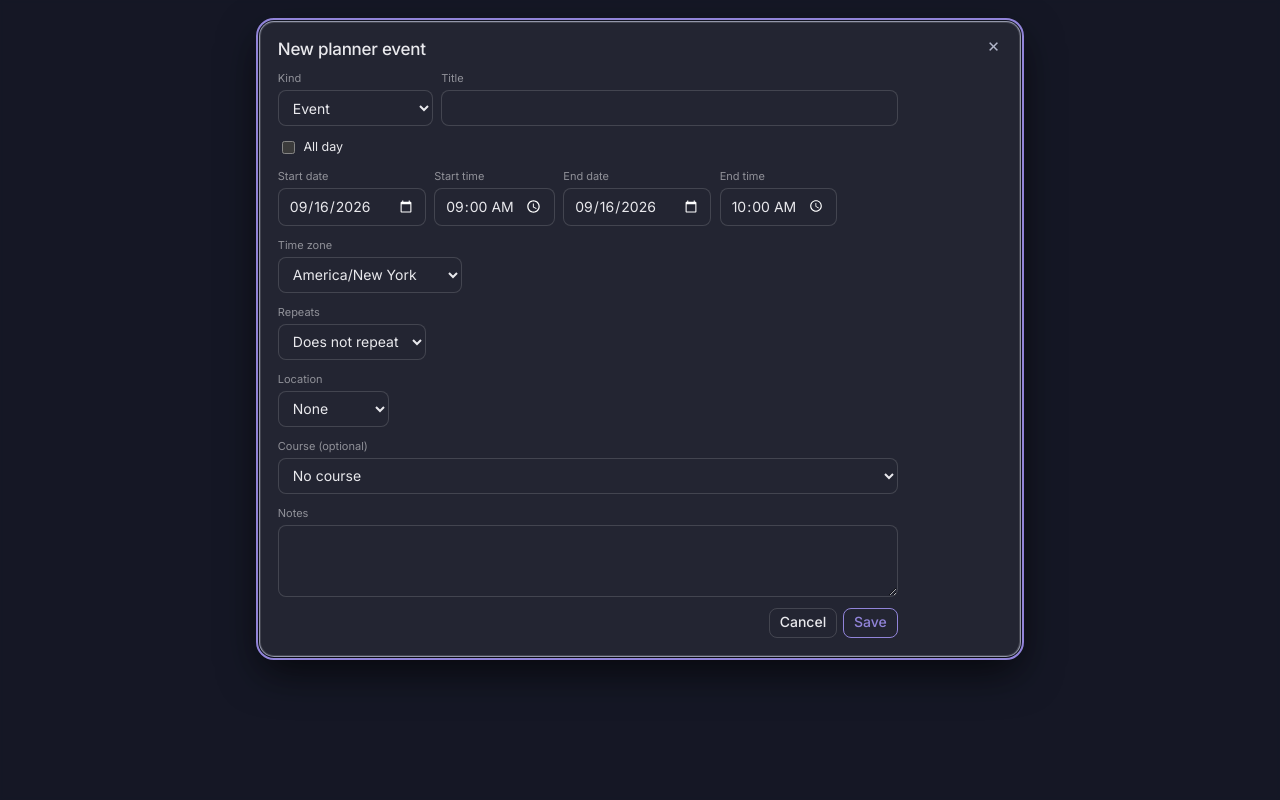
a new event › counts the occurrences live
The width and height of the screenshot is (1280, 800).
Type "Studio" into the field labelled "Title".
click(670, 108); type("Studio")  # box [441,90,898,126]
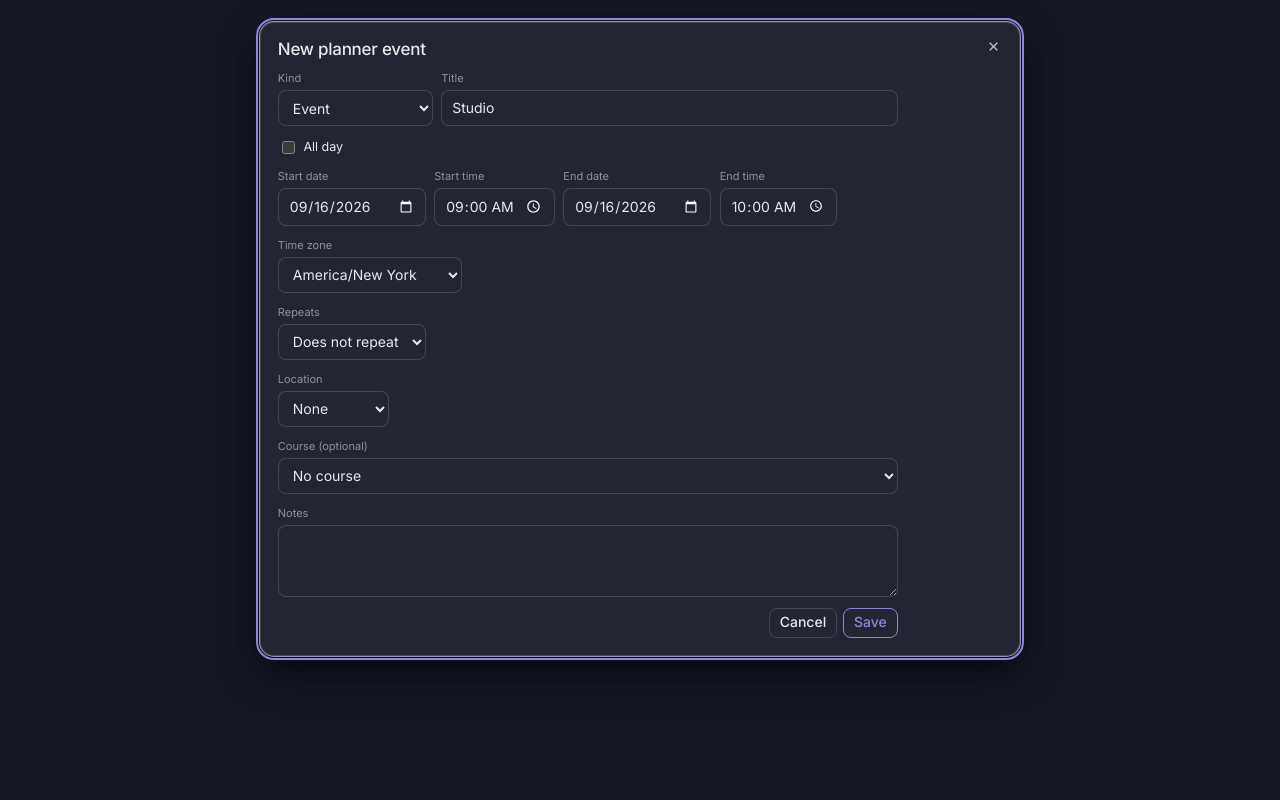
Select "Weekly" in the dropdown labelled "Repeats" at (352, 342), box [278,324,426,360]
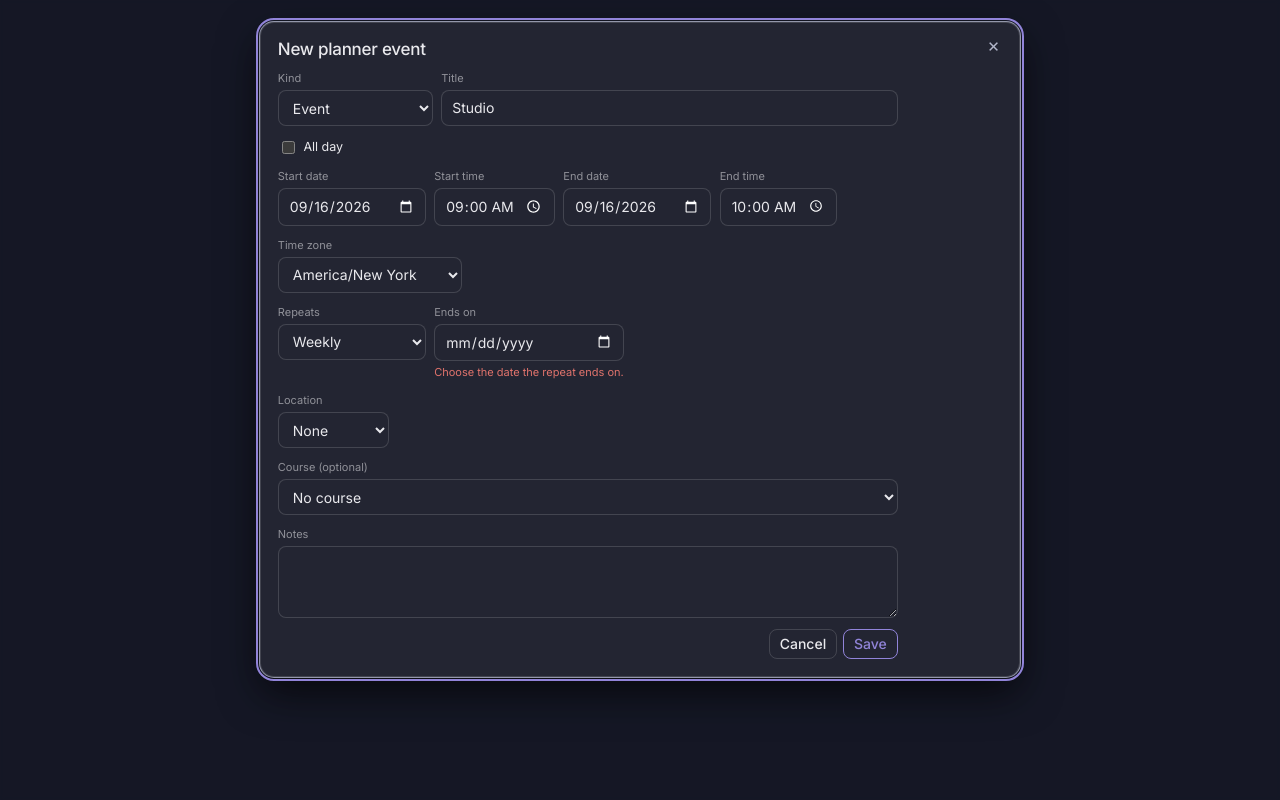
Type "2026-10-07" into the date field labelled "Ends on".
click(529, 342); type("2026-10-07")  # box [434,324,624,361]
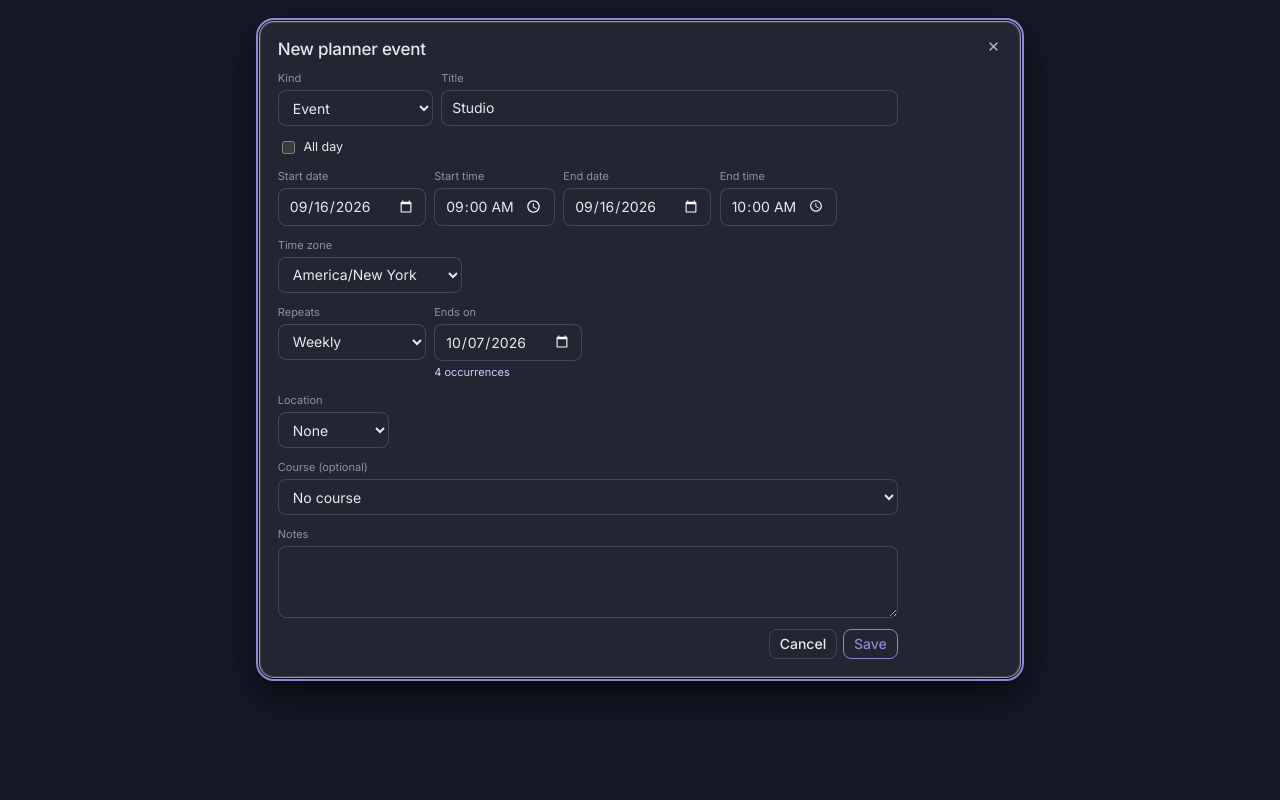
expect the text "4 occurrences" is shown: met, box [434,365,510,379]
Type "2026-09-16" into the date field labelled "Ends on".
click(508, 342); type("2026-09-16")  # box [434,324,582,361]
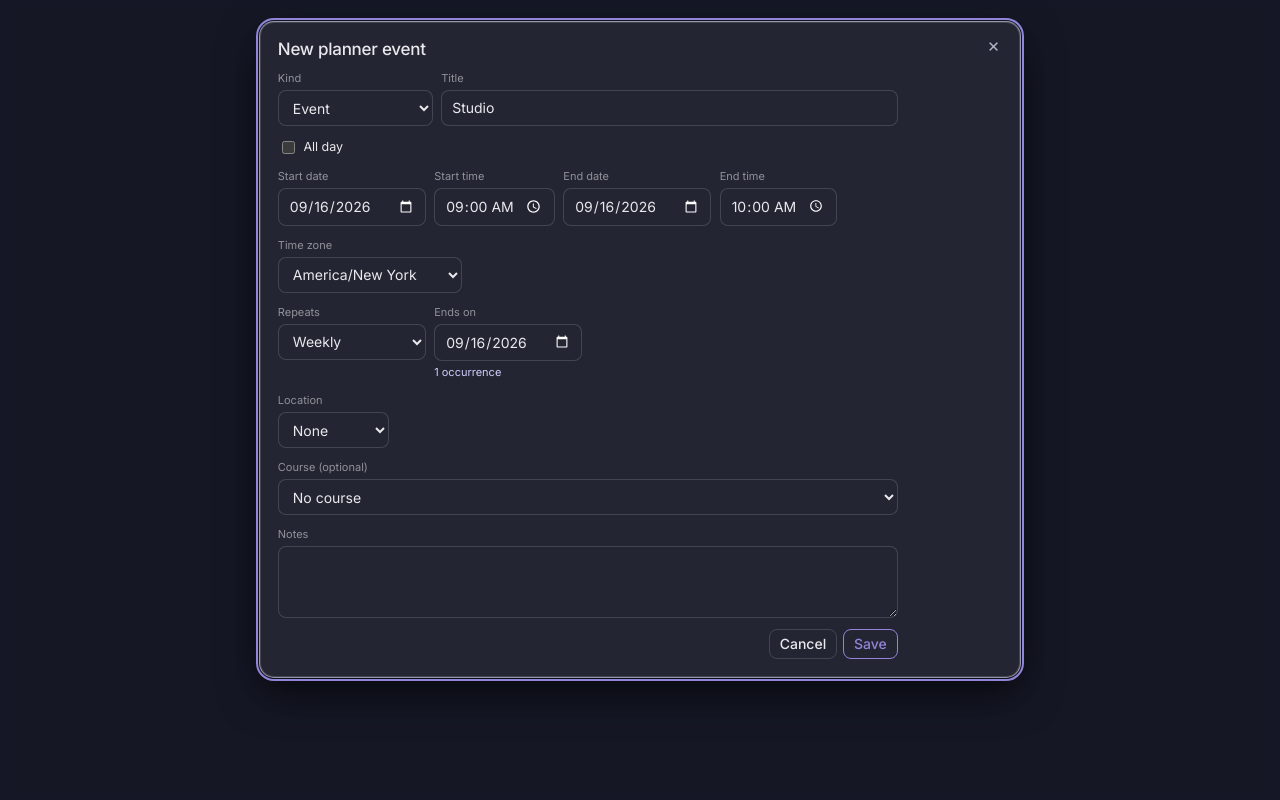
expect the text "1 occurrence" is shown: met, box [434,365,501,379]
